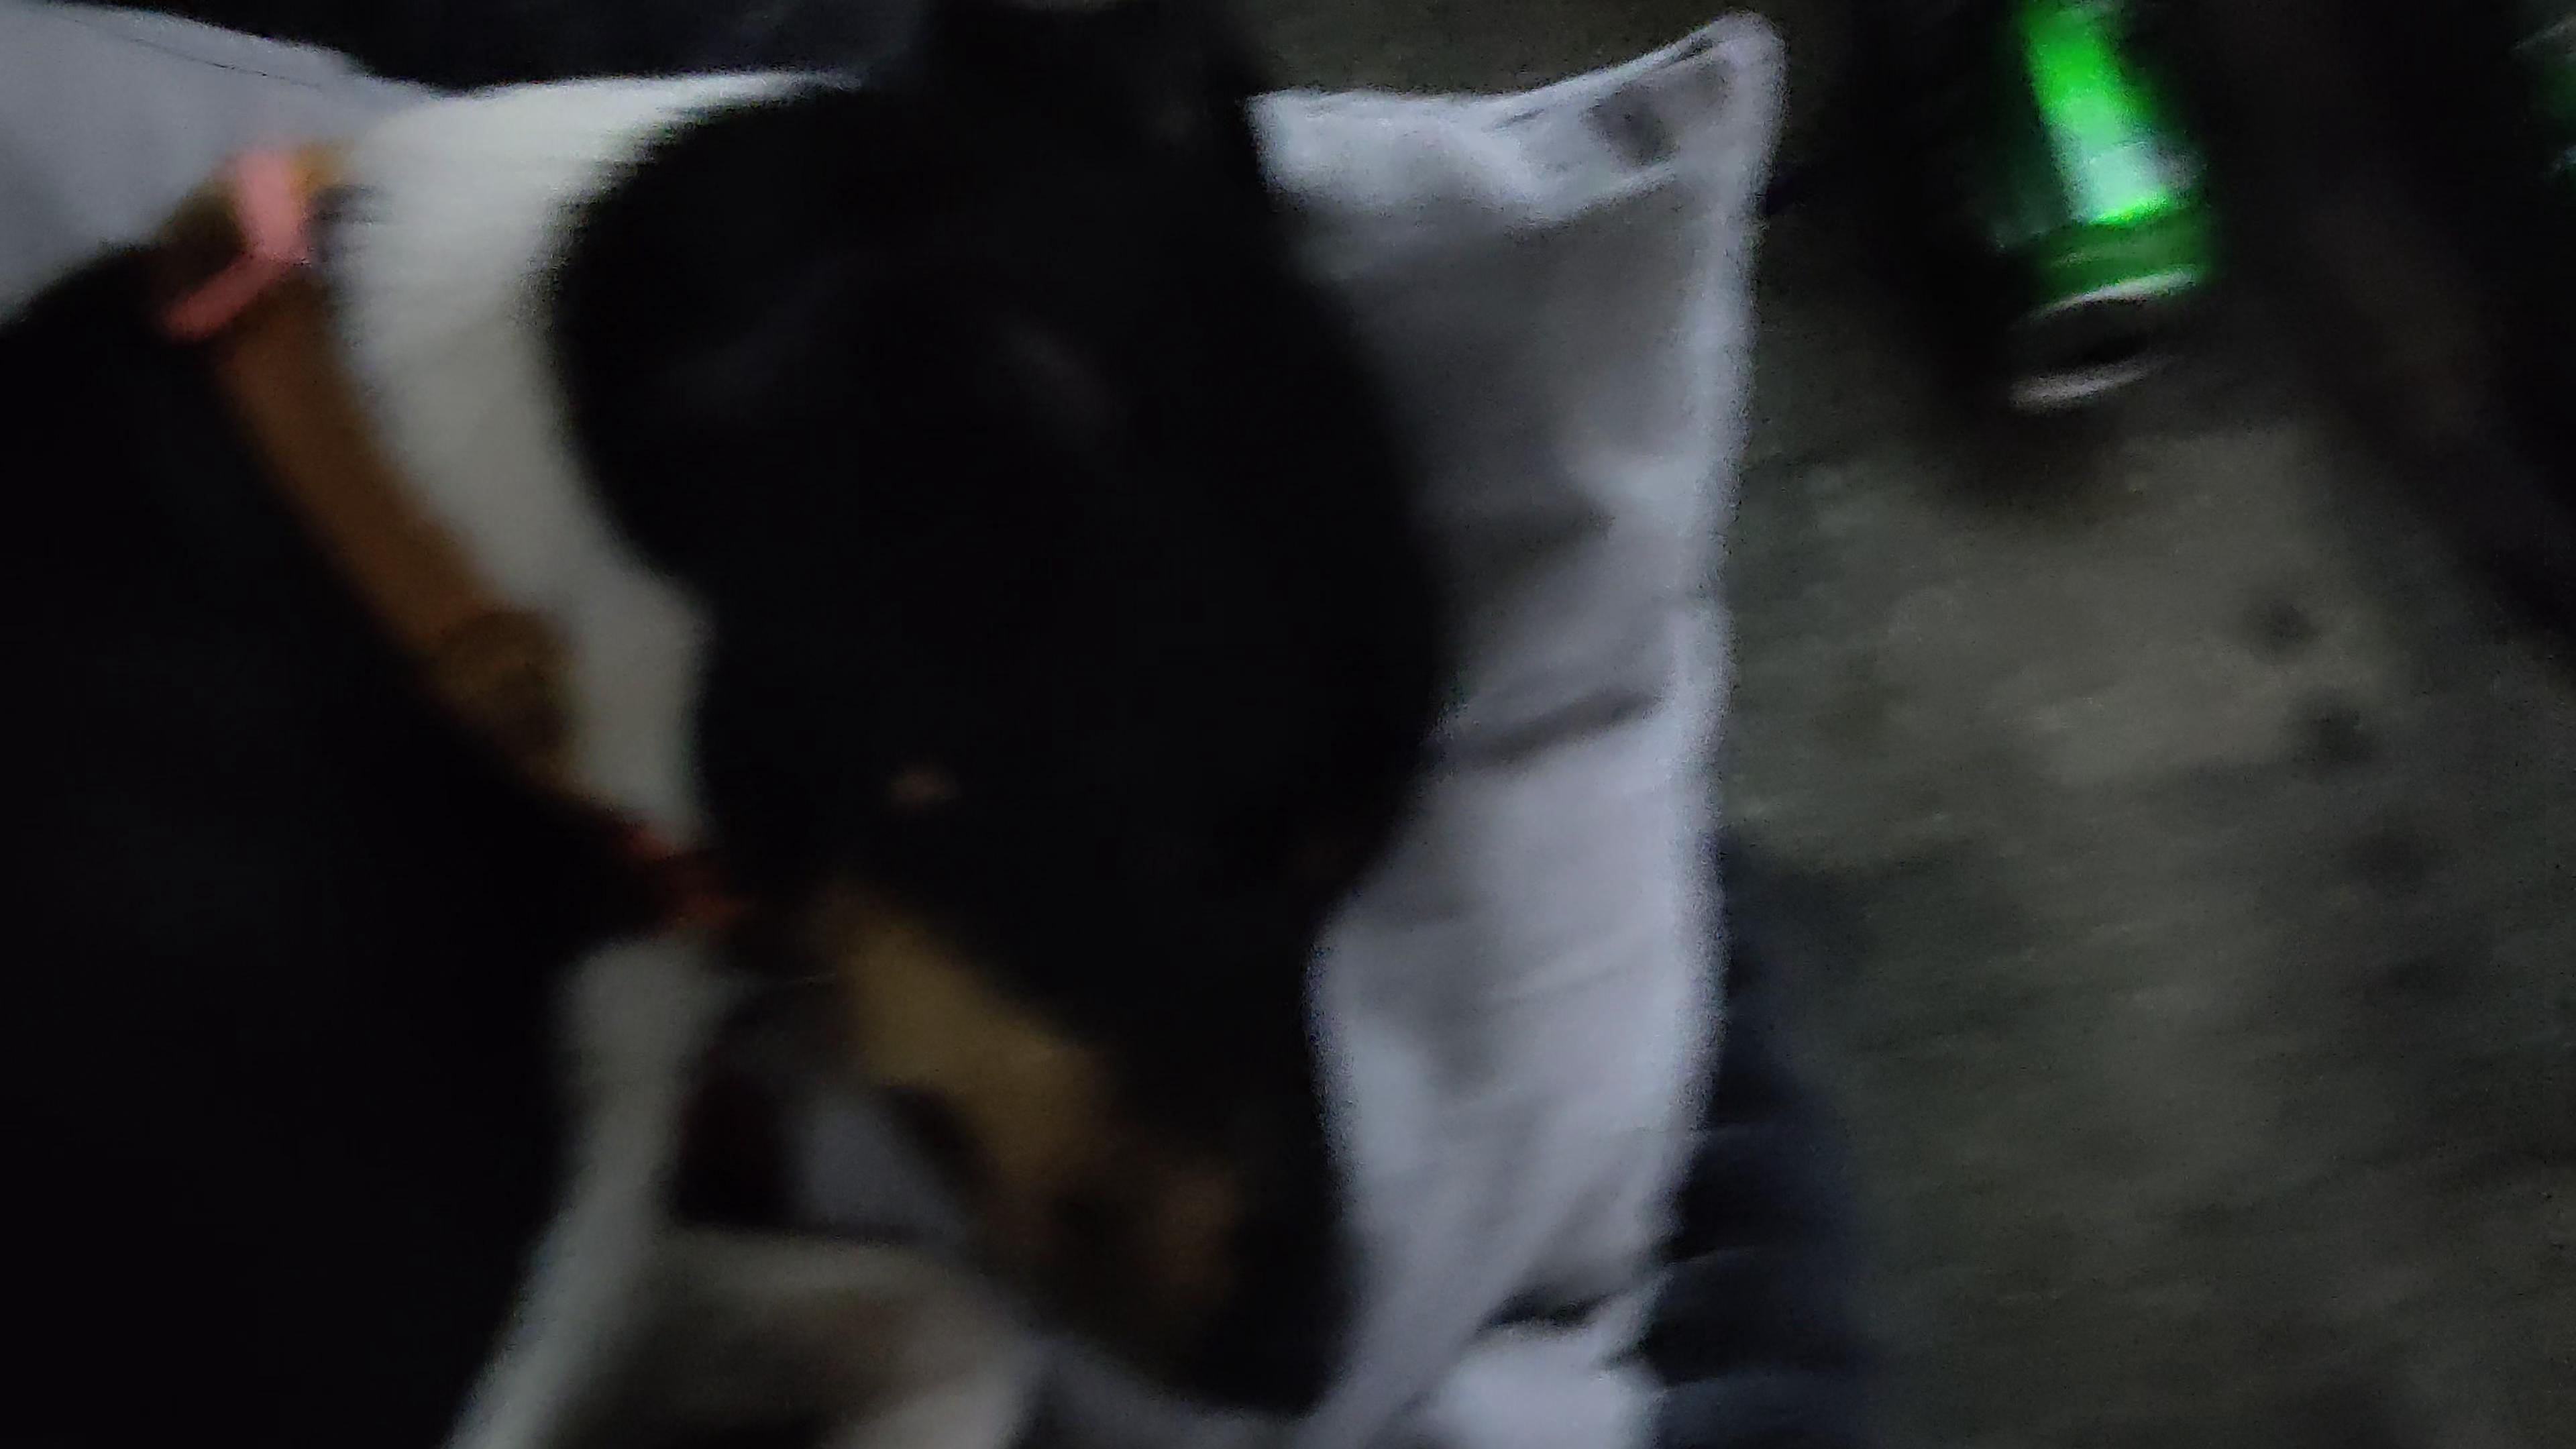Dog: (0, 0, 1477, 1449)
